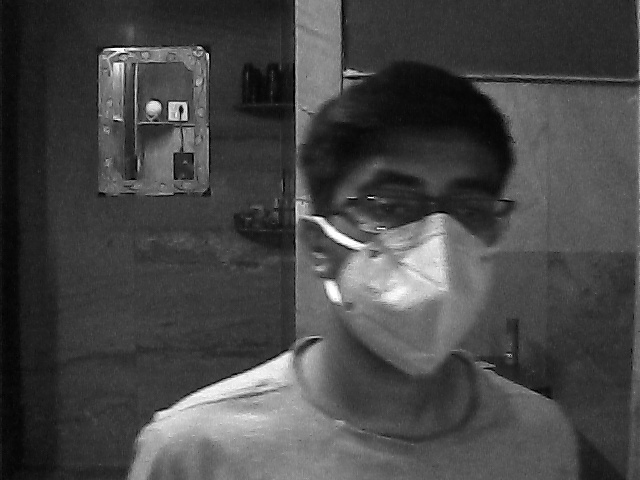mask: (321, 147, 504, 384)
